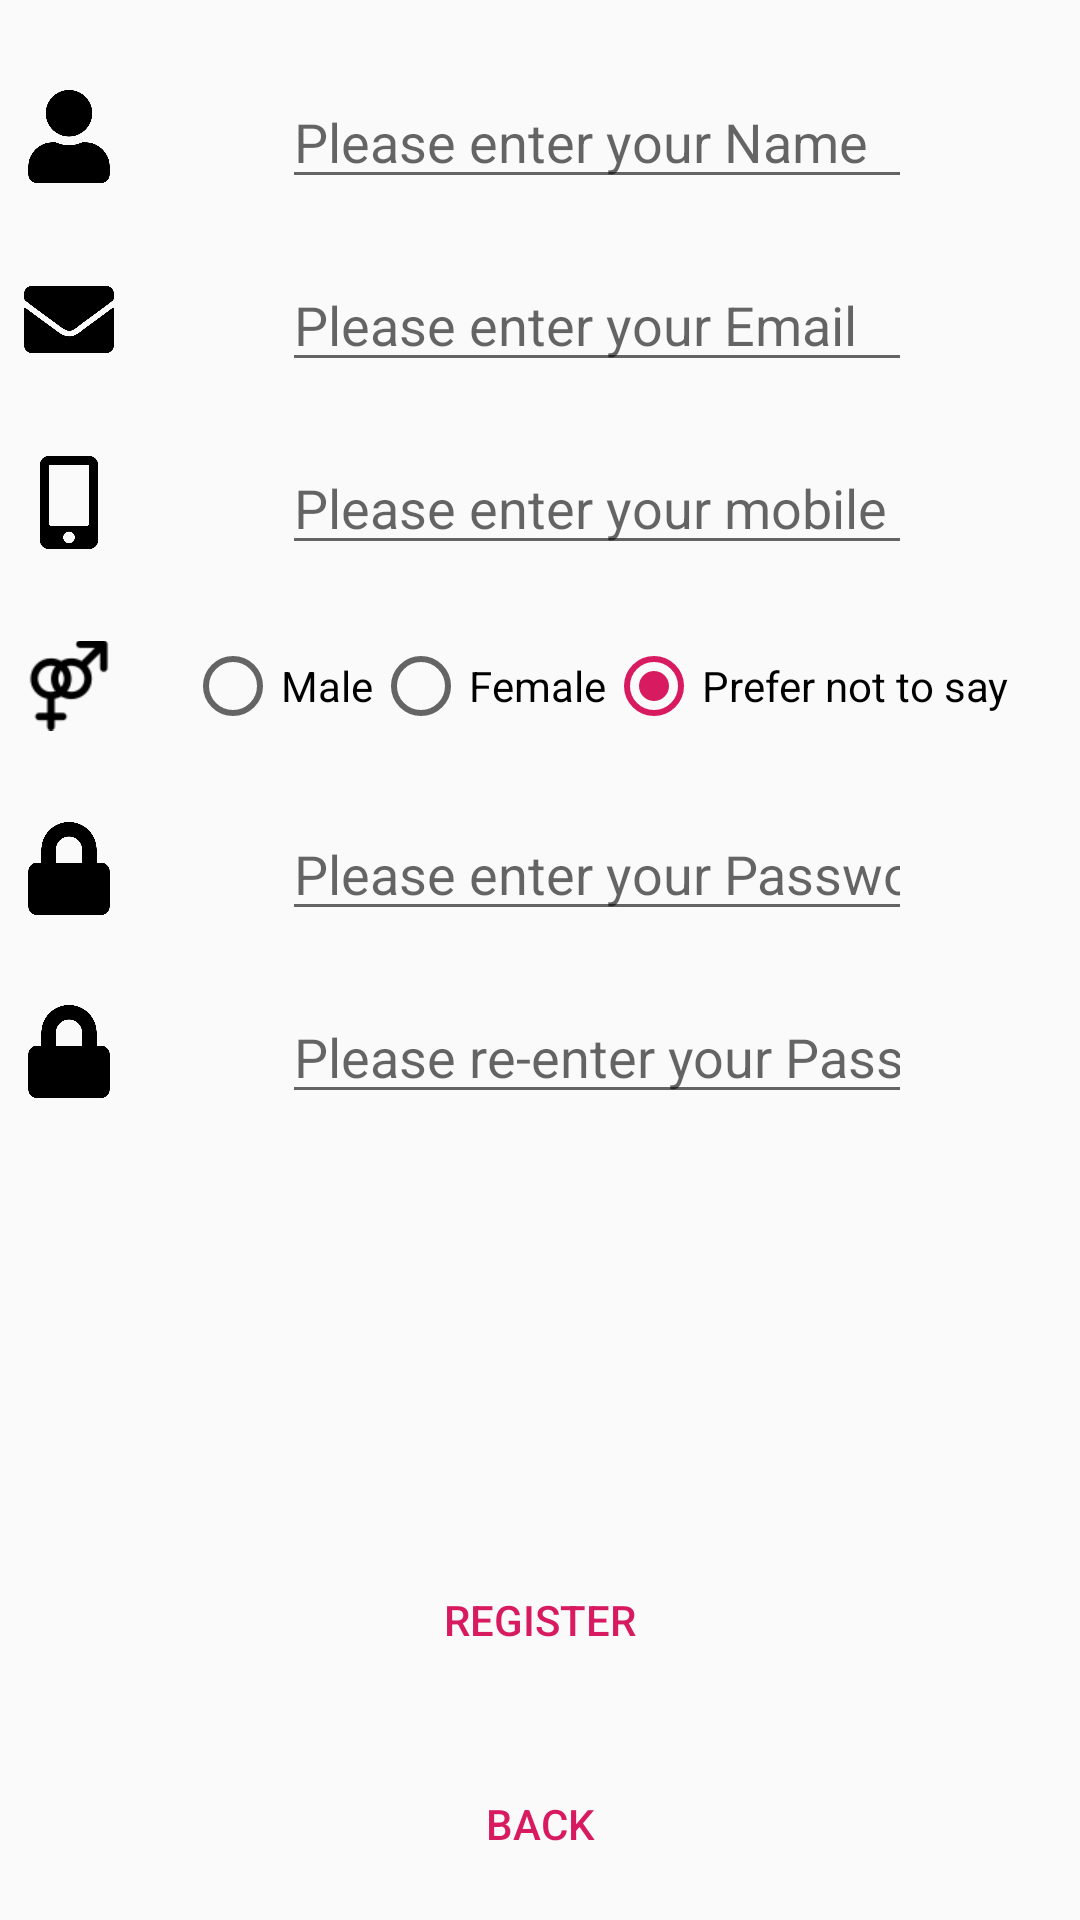

Point at icon controls on the screen. Image size 1080px×1920px, points as (x,y).
envelope: (69,319)
gender: (69,686)
lock: (69,868), (69,1051)
mobile: (69,502)
user: (69,136)
